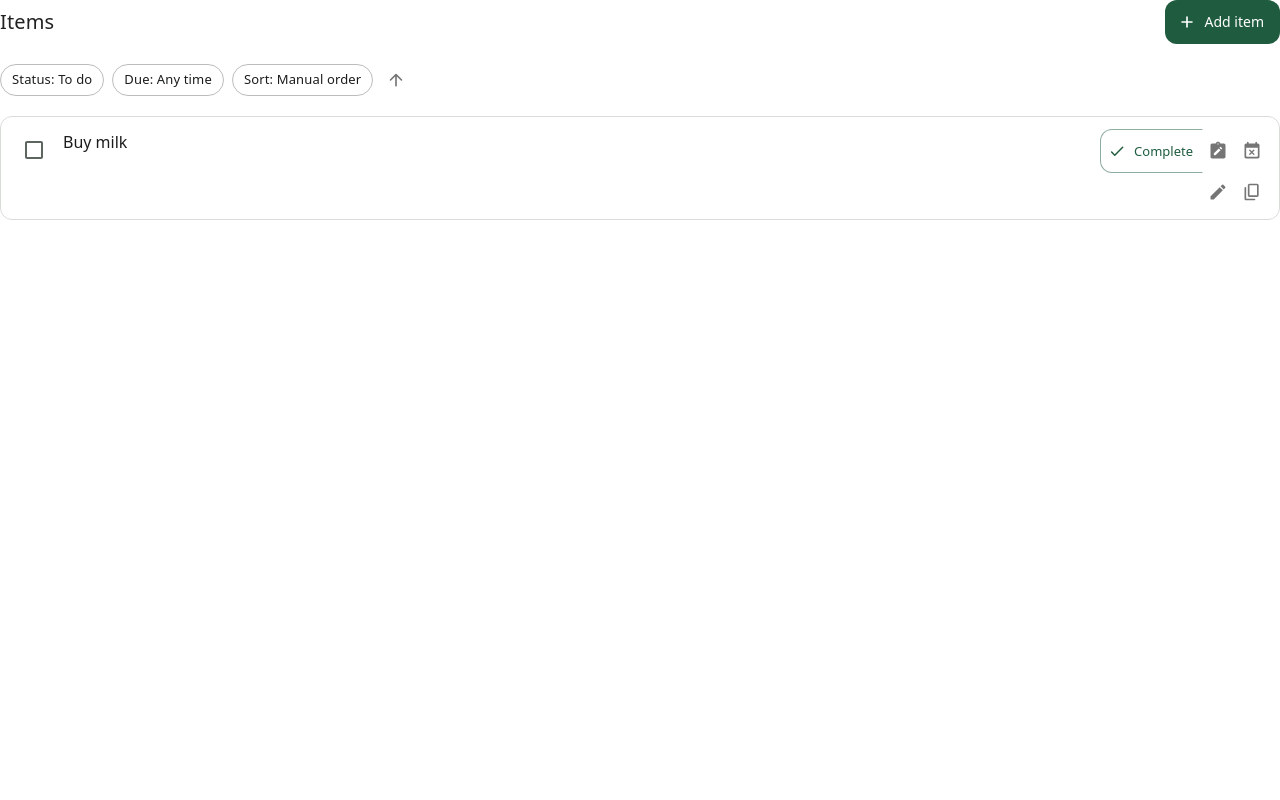
Test: ItemsSection › reaches the completion note by an ordinary click, with no hold at all
This screenshot has width=1280, height=800.
Click the button named "Complete Buy milk with a note" at (1218, 151), box [1203,129,1233,173]
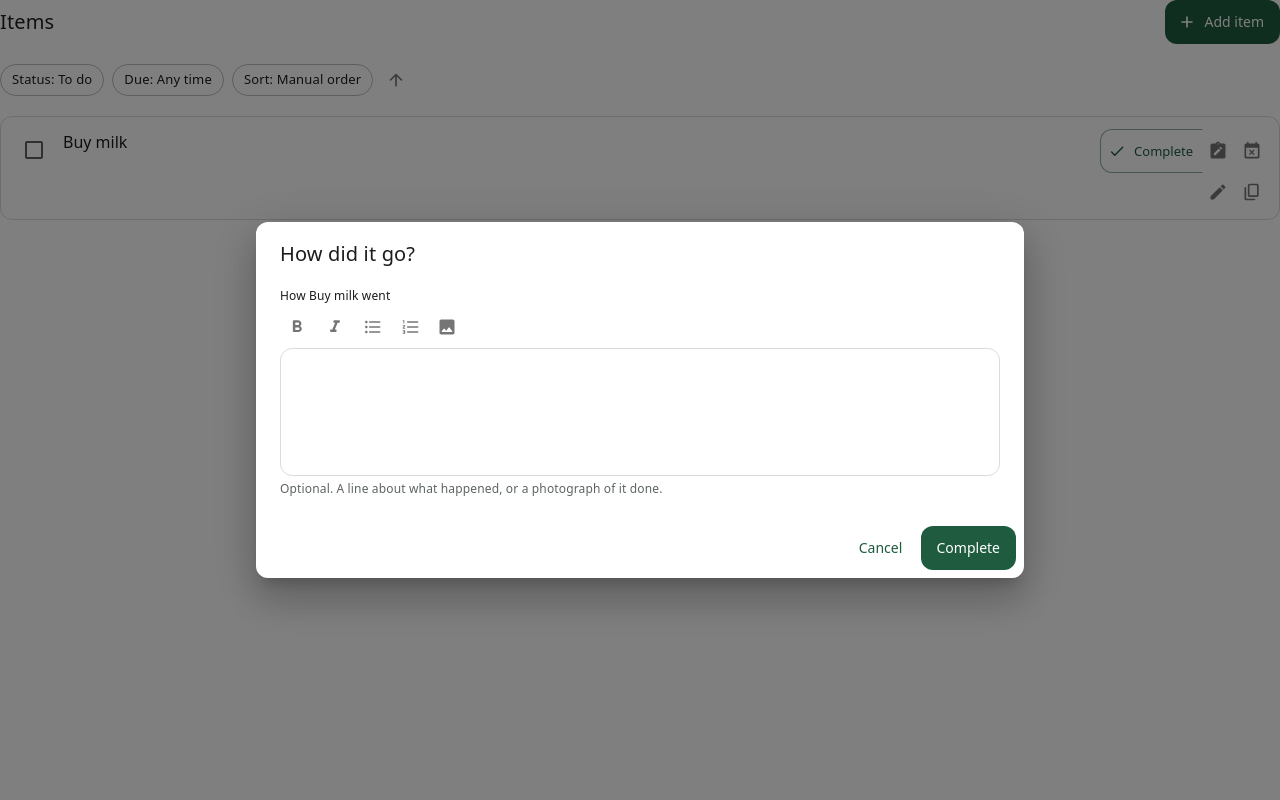
Now the dialog is shown, box [256,222,1024,578]
